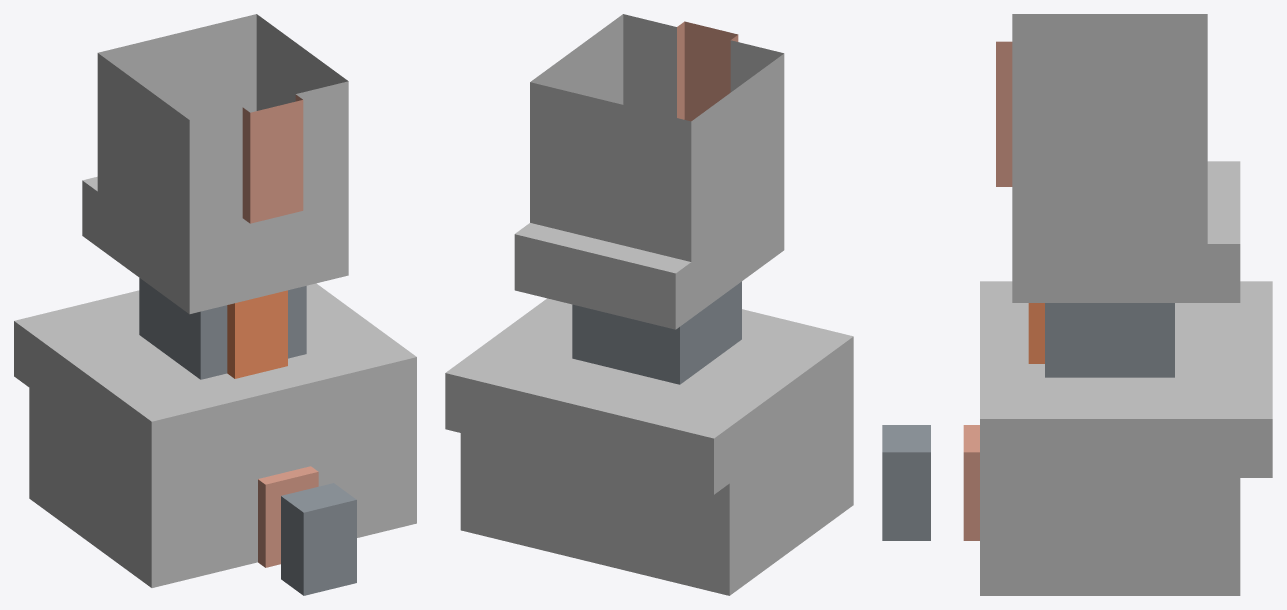
The model's file is cell_41.obj.
3 views of the same model, side by side, from view 1: azimuth 30°, elevation 25°; view 2: azimuth 150°, elevation 25°; view 3: azimuth 270°, elevation 25° (orthographic). The views are drawn at different scales.
Bounding box in the file's own units: 0.625 × 1 × 0.75.
